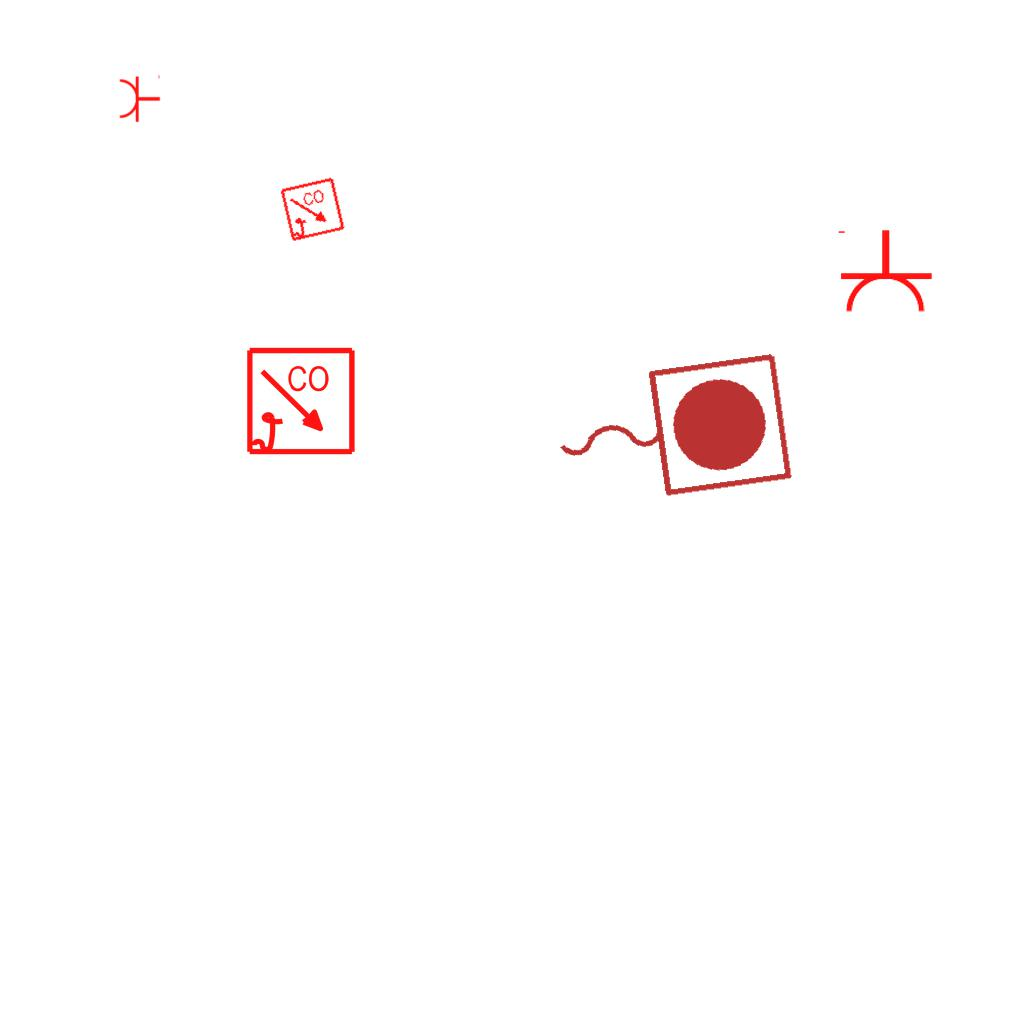ROA_Rauchmelder_optisch_mit_Signalgeber_(Sockelsirene): (245, 346, 358, 459), (279, 176, 347, 244)
Schukosteckdose_einfach: (834, 228, 934, 315), (118, 73, 161, 123)
Zugtaster: (539, 341, 801, 519)
